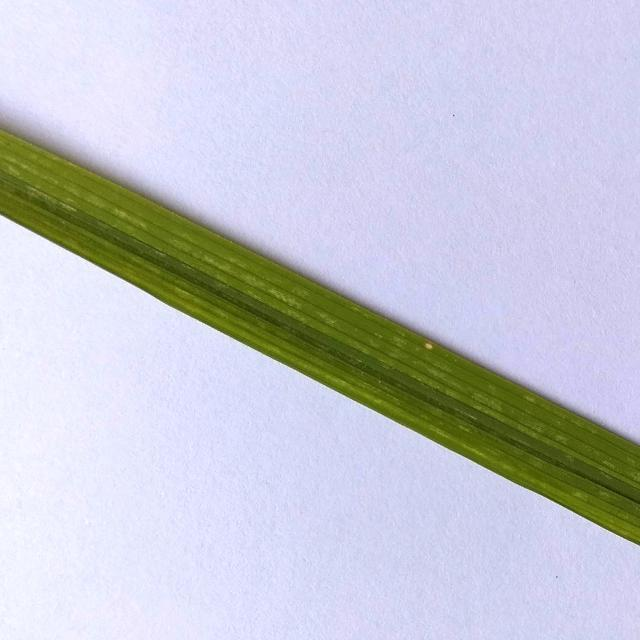Blast: (415, 336, 439, 354)
